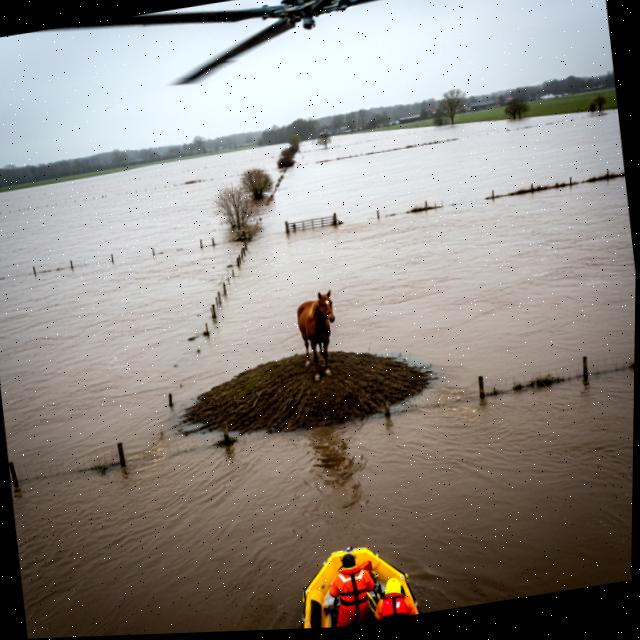horse: (282, 272, 354, 389)
rescuer: (323, 547, 381, 623), (371, 564, 417, 620)
